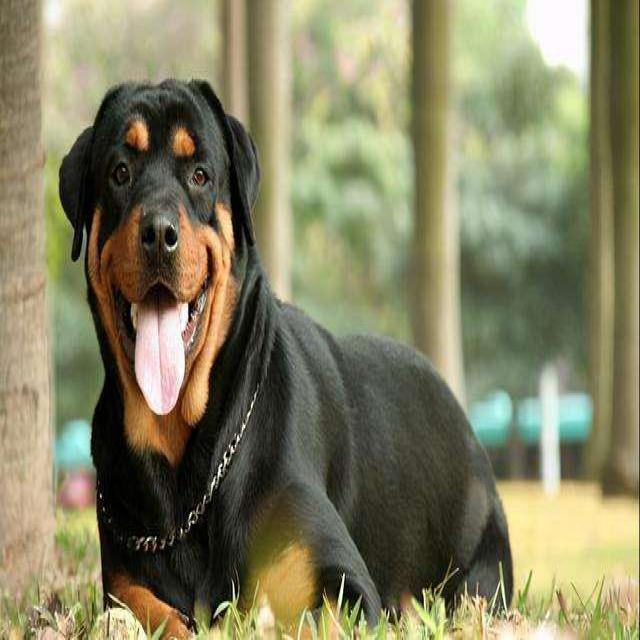eye: (110, 158, 132, 192), (188, 163, 211, 192)
